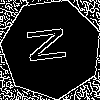N: (26, 24, 76, 65)
